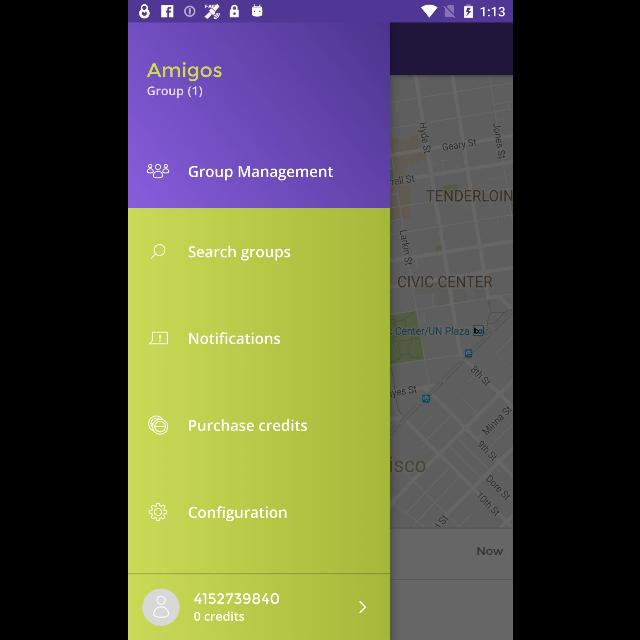icon: (141, 588, 179, 626), (148, 502, 166, 522), (146, 164, 168, 178), (148, 332, 168, 344), (150, 244, 164, 260), (358, 600, 366, 614)
image: (148, 416, 168, 434)
panel: (128, 22, 388, 640)
text: (187, 165, 333, 181), (188, 418, 308, 432), (188, 245, 290, 261), (188, 506, 286, 522), (146, 62, 222, 82), (188, 332, 280, 344), (194, 593, 278, 605), (146, 85, 202, 98), (193, 611, 244, 621)
uppertaskbar: (128, 1, 512, 23)
